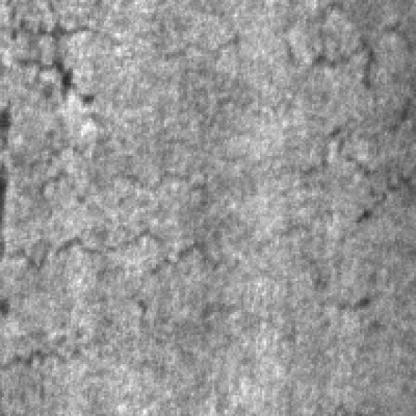crazing: (0, 114, 408, 268), (2, 0, 123, 104), (268, 0, 409, 87)
